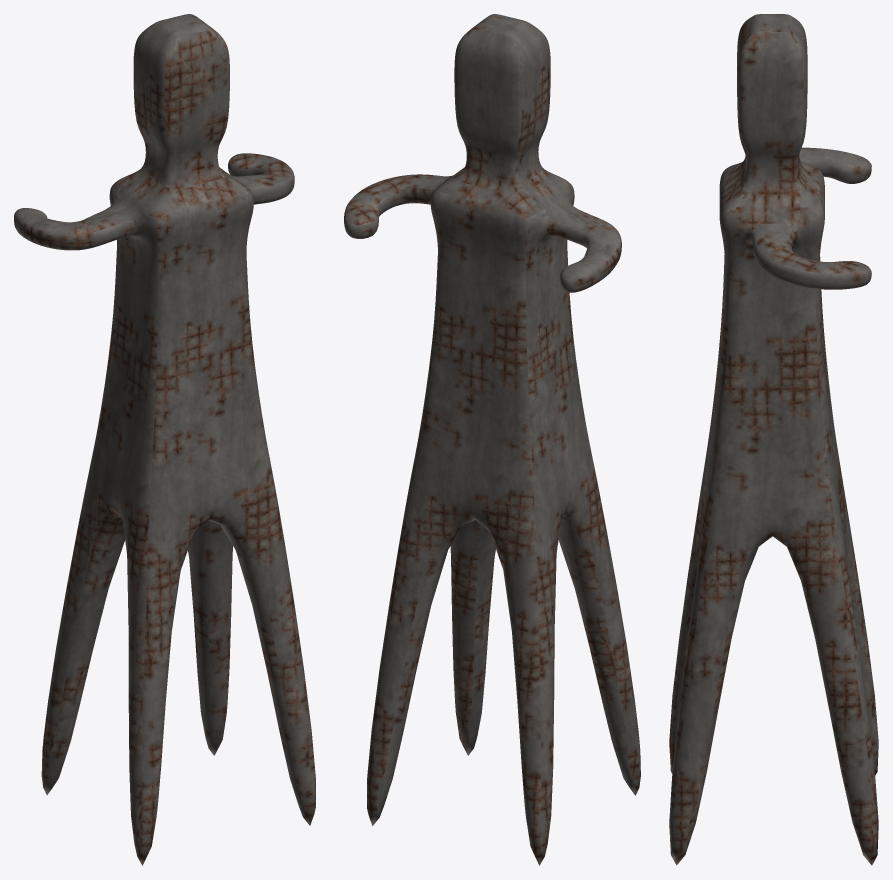
The model's file is Statue.gltf.
3 renders of one model, left to right at view 1: azimuth 30°, elevation 25°; view 2: azimuth 150°, elevation 25°; view 3: azimuth 270°, elevation 25°, orthographic. The views are drawn at different scales.
Visible parts, largest first — view 1: Cube; view 2: Cube; view 3: Cube.
Boxes of the visible parts, x1,y1,x2,y2 form: Cube: (14,14,315,865); Cube: (344,14,640,865); Cube: (669,14,878,865).
Size of the model in its own units: 0.9115 by 2.67 by 0.6297.
1 material, 1 textured.
